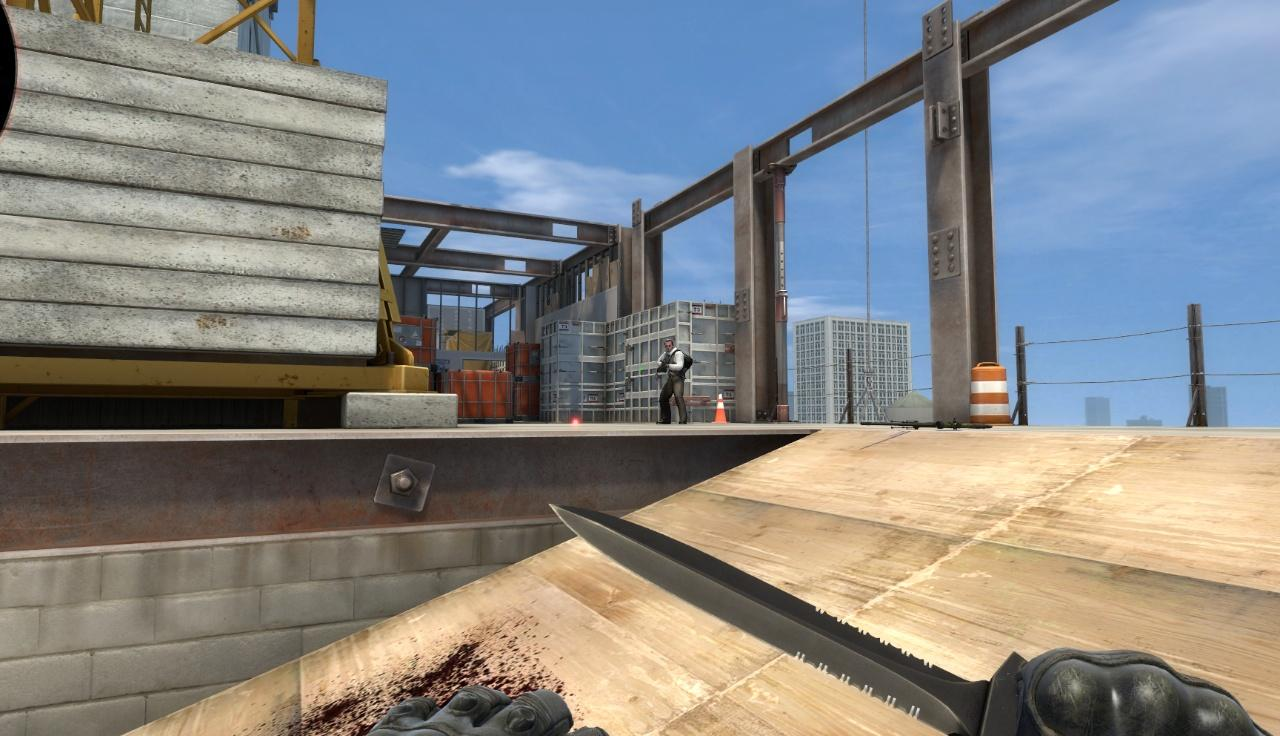tt: (653, 338, 689, 423)
tthead: (663, 338, 674, 353)
